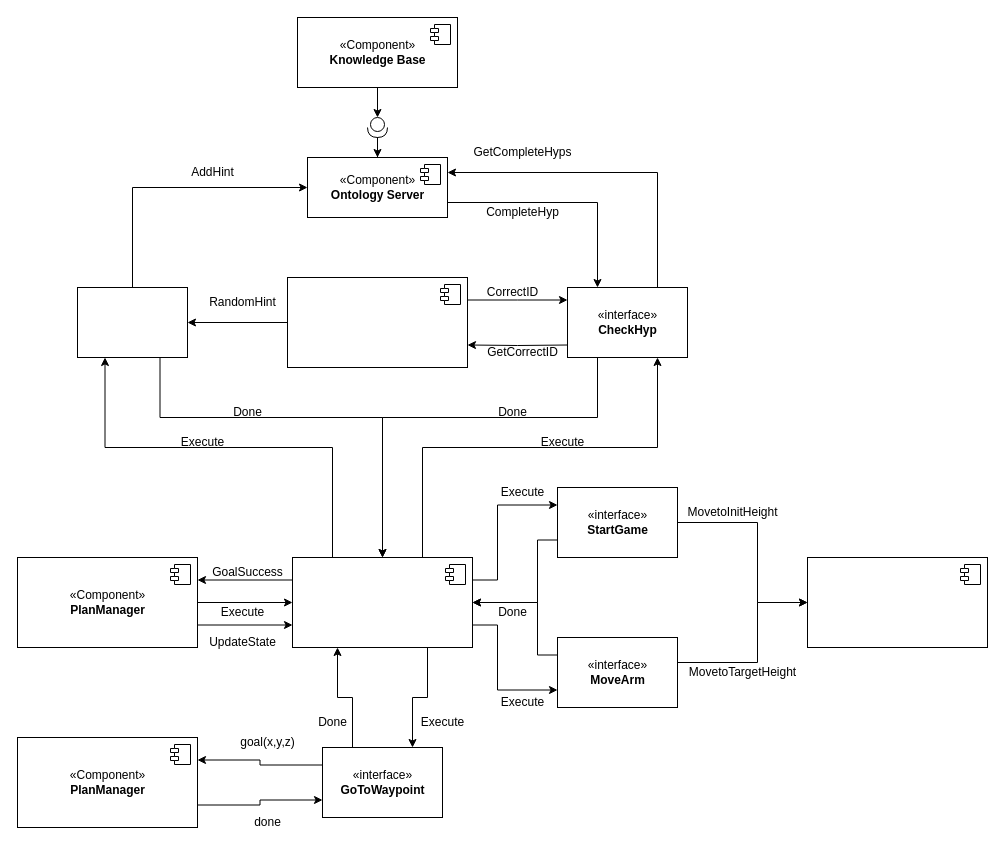
The diagram is 1005 pixels wide and 855 high, and some of its shapes have lost their labels. The shapes that lost their labels are listed below. From the top down, each one's centre as x and y in pixels, then its label:
At point (132, 322): "«interface» GetHint".
At point (377, 322): "«Component» Simulation".
At point (382, 602): "«Component» ROS PLAN".
At point (897, 602): "«Annotation» MoveIt".
